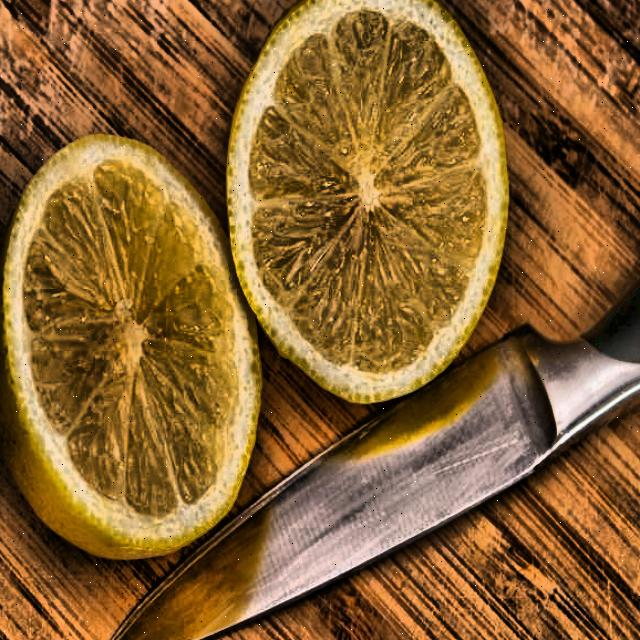knife: (97, 232, 639, 640)
